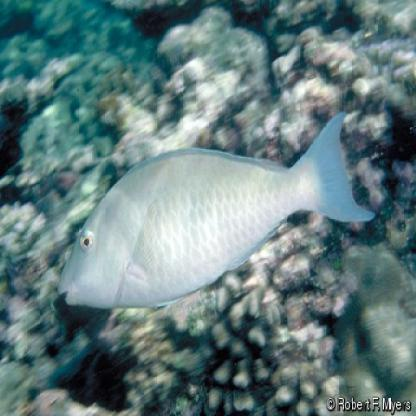Bio: (53, 96, 373, 319)
